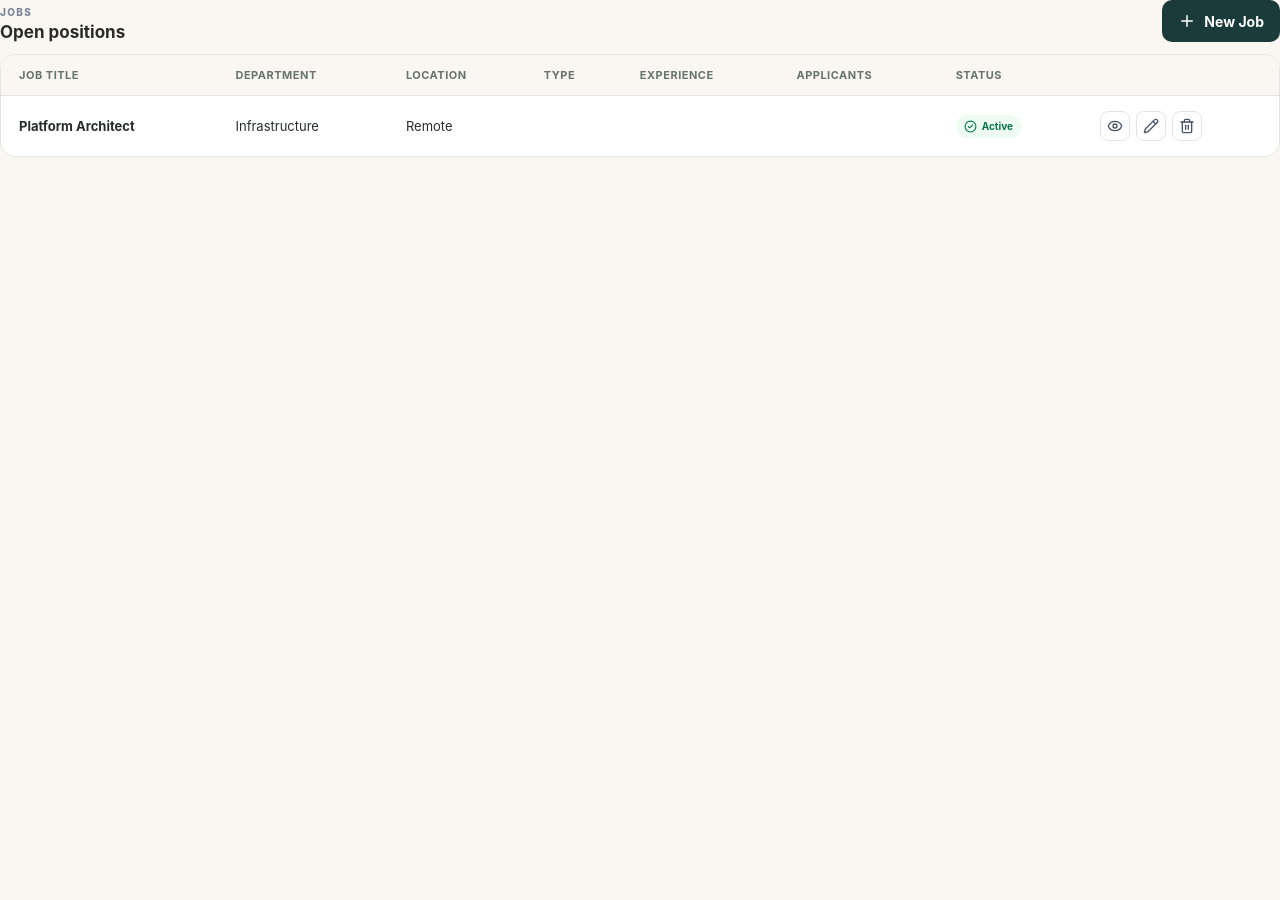
Test: UI-03: Job Delete Confirmation Modal and Inline Error State › displays inline error in modal when deleteJob fails
This screenshot has width=1280, height=900.
Expected: the text "Platform Architect" is shown, [19,118,135,134]
Click the button named "Delete Platform Architect".
click(1187, 126)  # box [1172,111,1202,141]
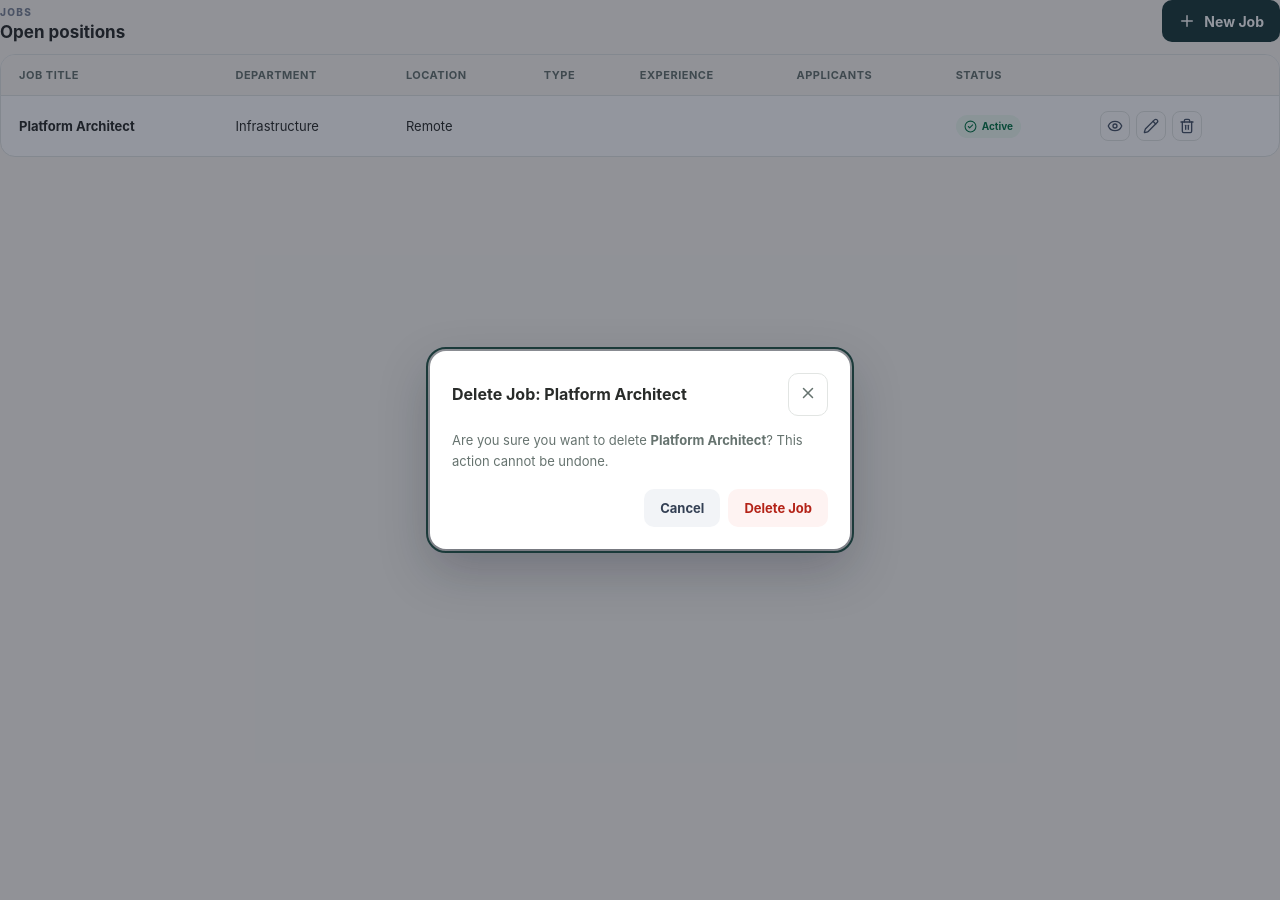
Click the button "Delete Job".
click(778, 508)  # box [728,489,828,527]
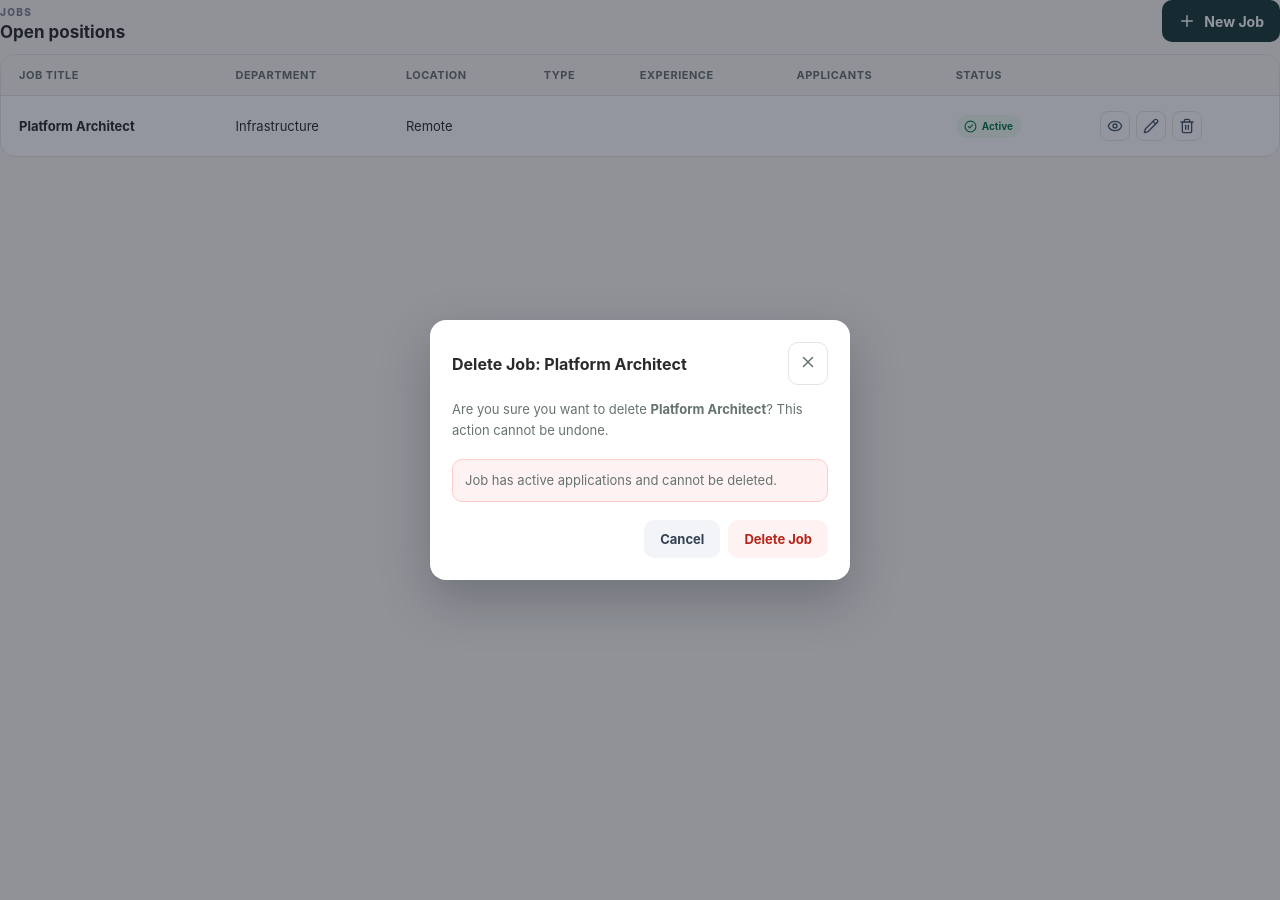
Expected: the text "Job has active applications and cannot be deleted." is shown, [452,459,828,502]
